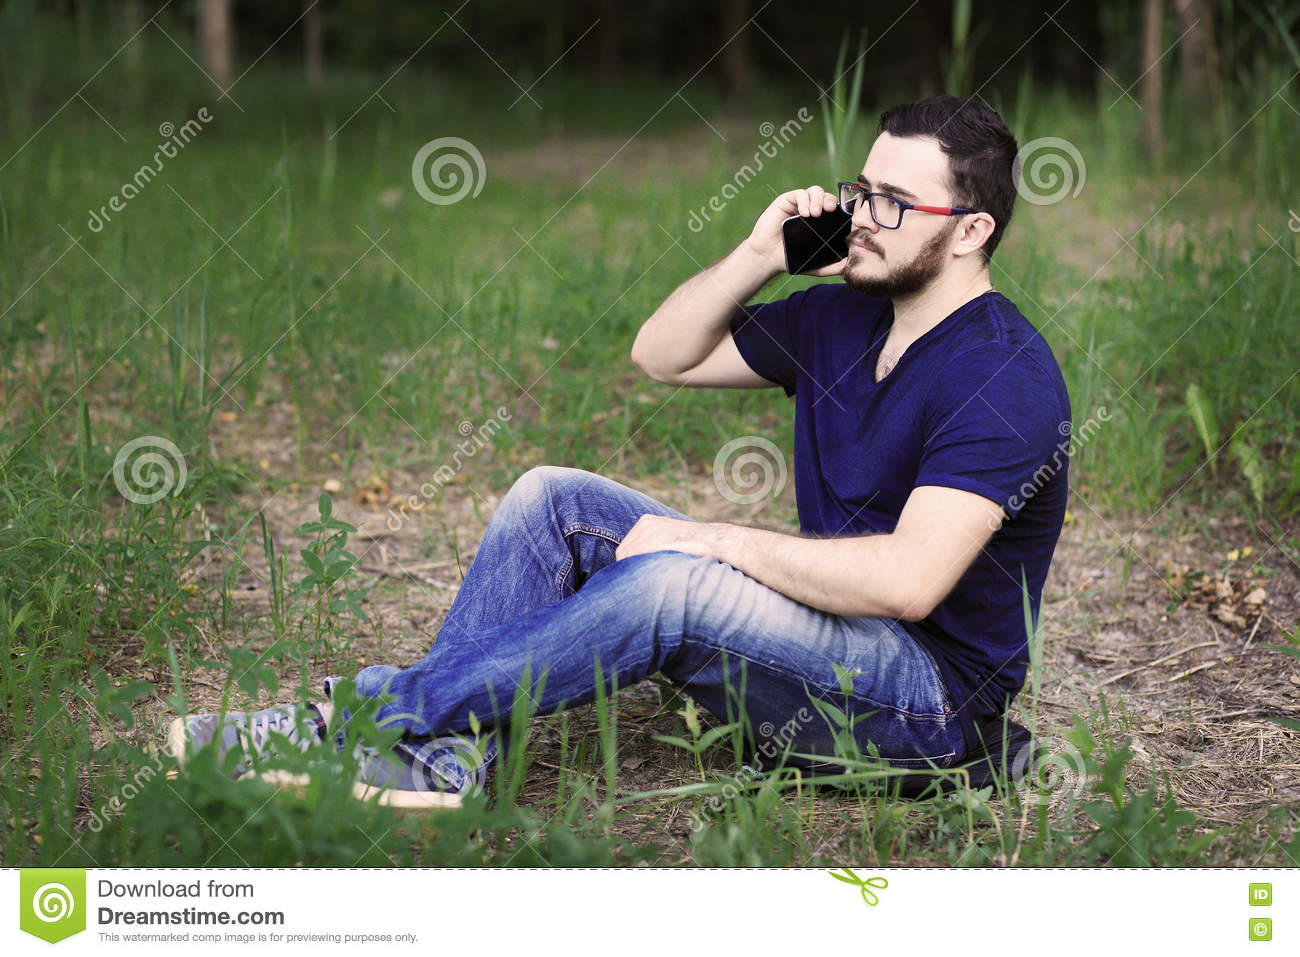phone: (781, 188, 859, 276)
talk: (750, 169, 930, 297)
